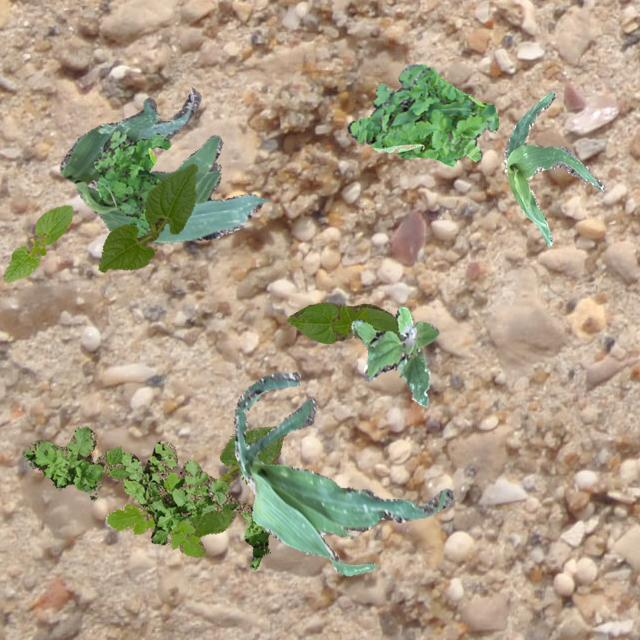crop: (233, 370, 452, 574), (59, 86, 268, 242), (504, 90, 604, 246), (187, 426, 285, 536), (98, 162, 196, 270), (2, 204, 72, 282), (286, 302, 398, 342)
weed: (22, 426, 268, 568), (347, 62, 498, 166), (350, 306, 438, 406), (106, 471, 204, 556), (92, 130, 170, 236)
